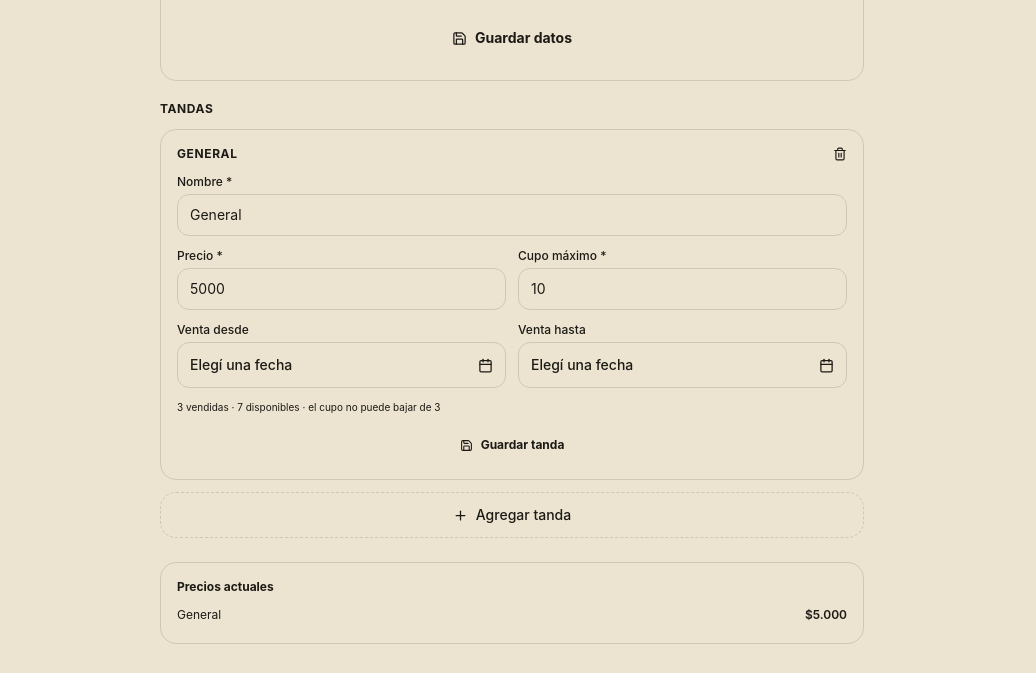
Test: OrganizadorEditEventPage — tandas › el cupo no puede bajar de lo ya vendido: avisa y bloquea 'Guardar tanda'
(page scrolled)
Replace the text in the field showing "10" below "Cupo máximo *" with "2" at (682, 289), box x1=518 y1=268 x2=847 y2=310
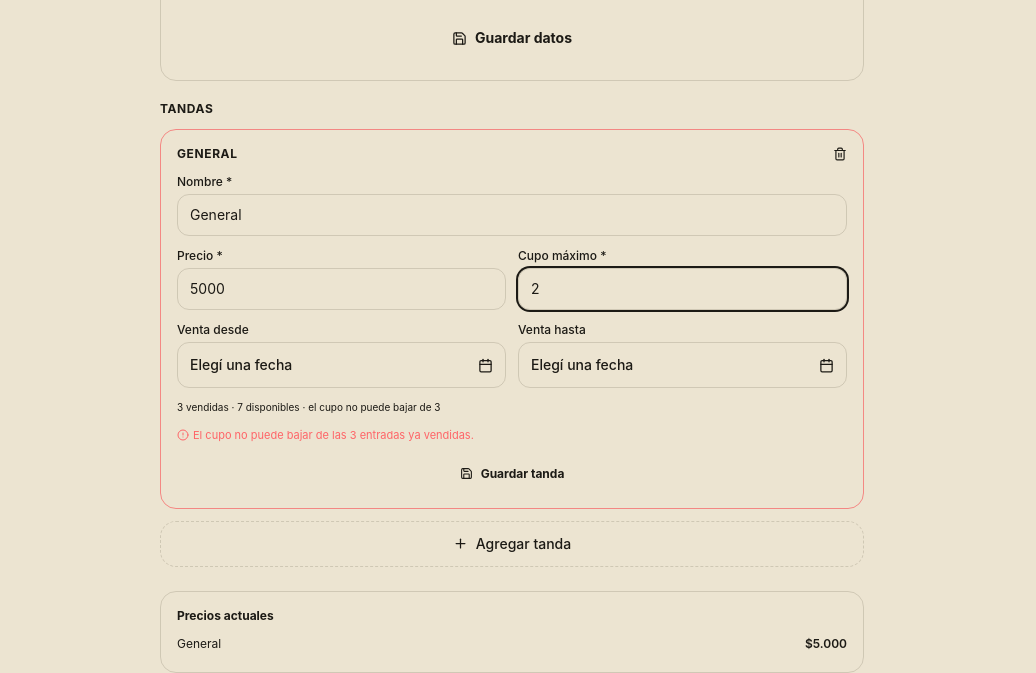
expect the button "Guardar tanda" is disabled: met, box x1=177 y1=456 x2=847 y2=492
expect the text "El cupo no puede bajar de las 3 entradas ya vendidas." is shown: met, box x1=177 y1=428 x2=474 y2=442
